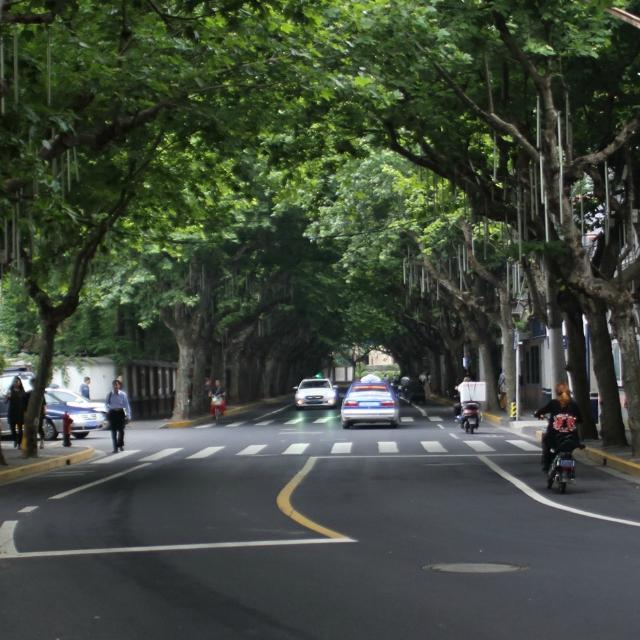curb: (0, 448, 95, 483), (583, 447, 639, 478), (162, 416, 214, 427), (484, 412, 501, 426)
